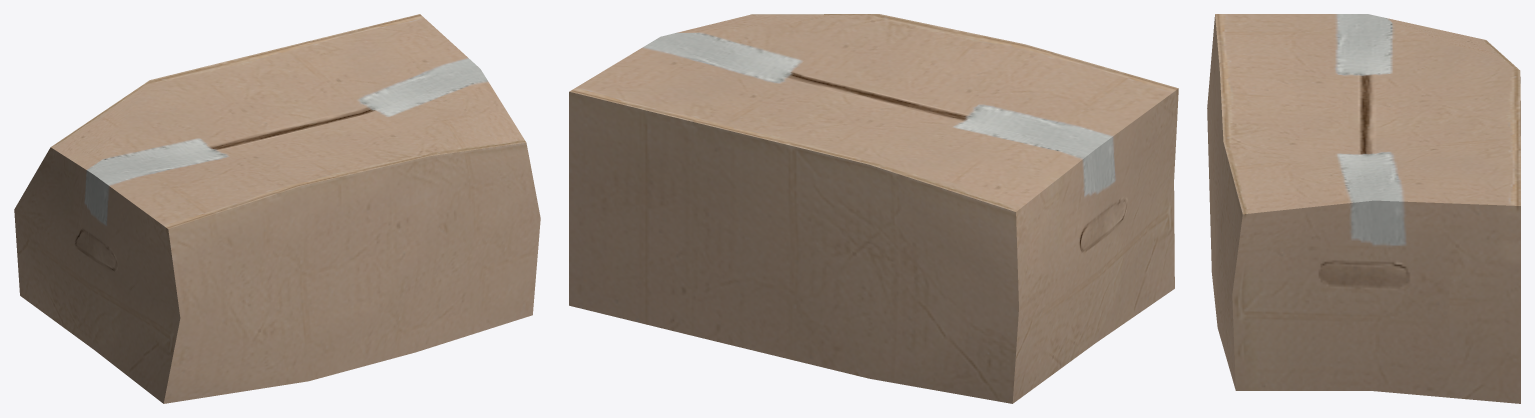
Rendered from CardboardBox_b.FBX.
3 renders of one model, left to right at view 1: azimuth 30°, elevation 25°; view 2: azimuth 150°, elevation 25°; view 3: azimuth 270°, elevation 25°, orthographic. The views are drawn at different scales.
Visible parts, largest first — view 1: CardboardBox_b; view 2: CardboardBox_b; view 3: CardboardBox_b.
Part boxes in pixels (x1,y1,x2,y2): CardboardBox_b: (14,14,540,403); CardboardBox_b: (569,14,1178,403); CardboardBox_b: (1207,14,1520,403).
Size of the model in its own units: 21.65 by 9.84 by 14.14.
